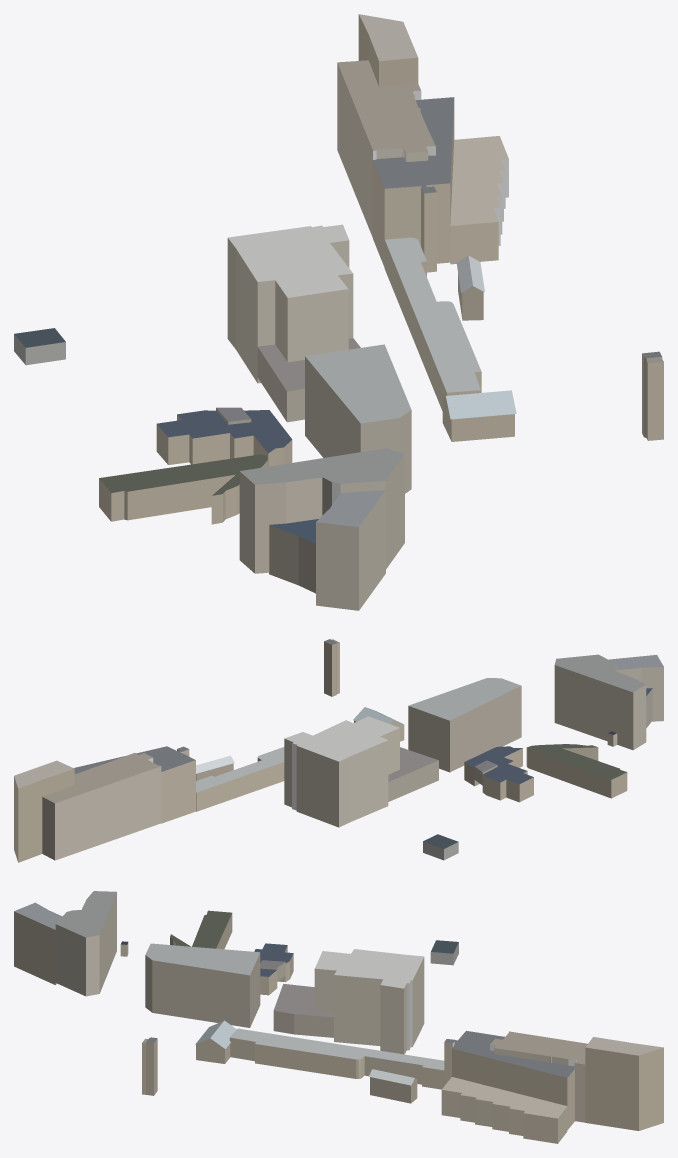
3 renders of one model, top to bottom at view 1: azimuth 30°, elevation 25°; view 2: azimuth 150°, elevation 25°; view 3: azimuth 270°, elevation 25°, orthographic. The views are drawn at different scales.
Parts seen in each view (by area): view 1: tuile; view 2: tuile; view 3: tuile.
Boxes of the visible parts, x1,y1,x2,y2 form: tuile: [14, 14, 663, 610]; tuile: [14, 639, 663, 862]; tuile: [14, 891, 663, 1143].
Size of the model in its own units: 189 by 33.06 by 246.
